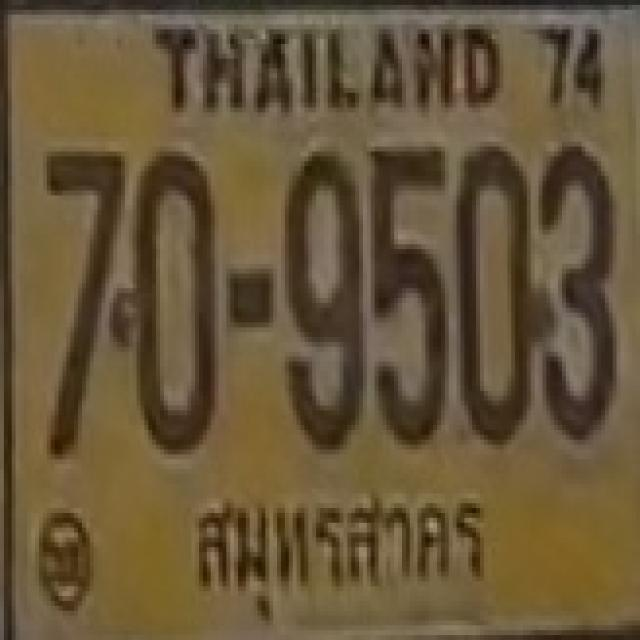0: (128, 146, 214, 450), (452, 144, 530, 442)
3: (532, 142, 614, 434)
5: (371, 144, 445, 315)
7: (45, 146, 123, 356), (43, 147, 125, 337)
9: (281, 159, 363, 447)
SKN: (178, 472, 497, 620)
